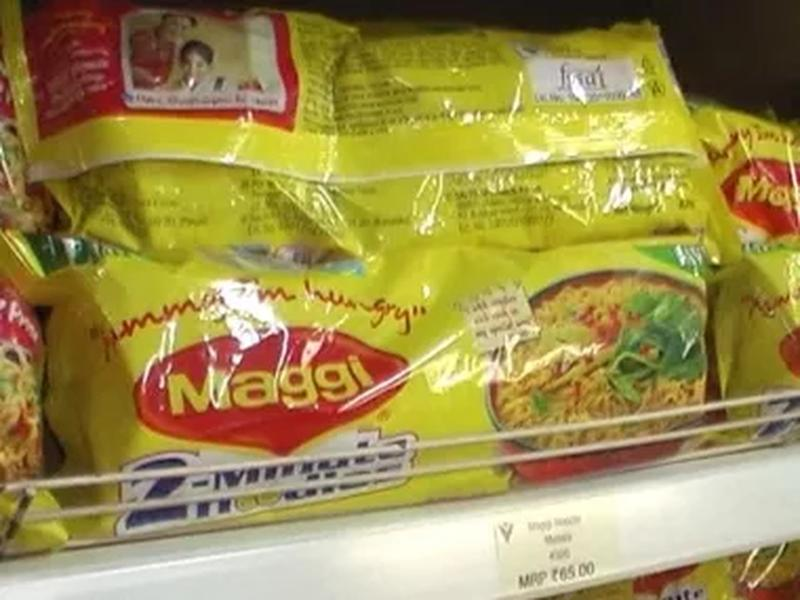maggi-family: (8, 225, 724, 467), (23, 8, 737, 240)
